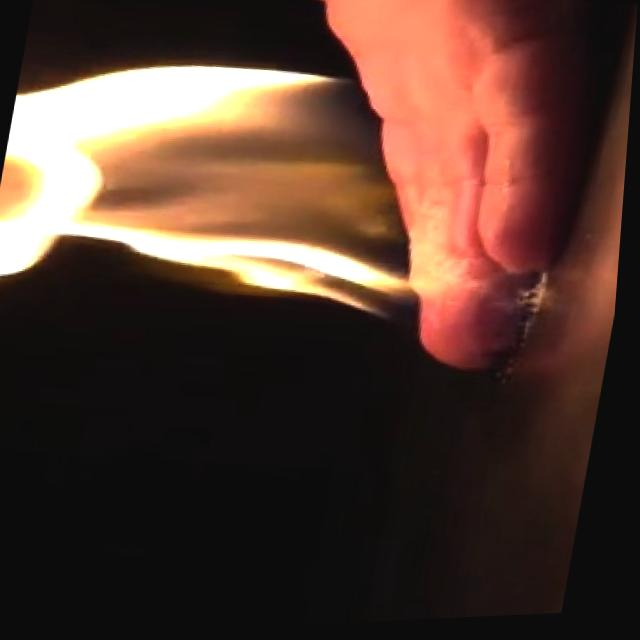helmet: (0, 28, 459, 348)
